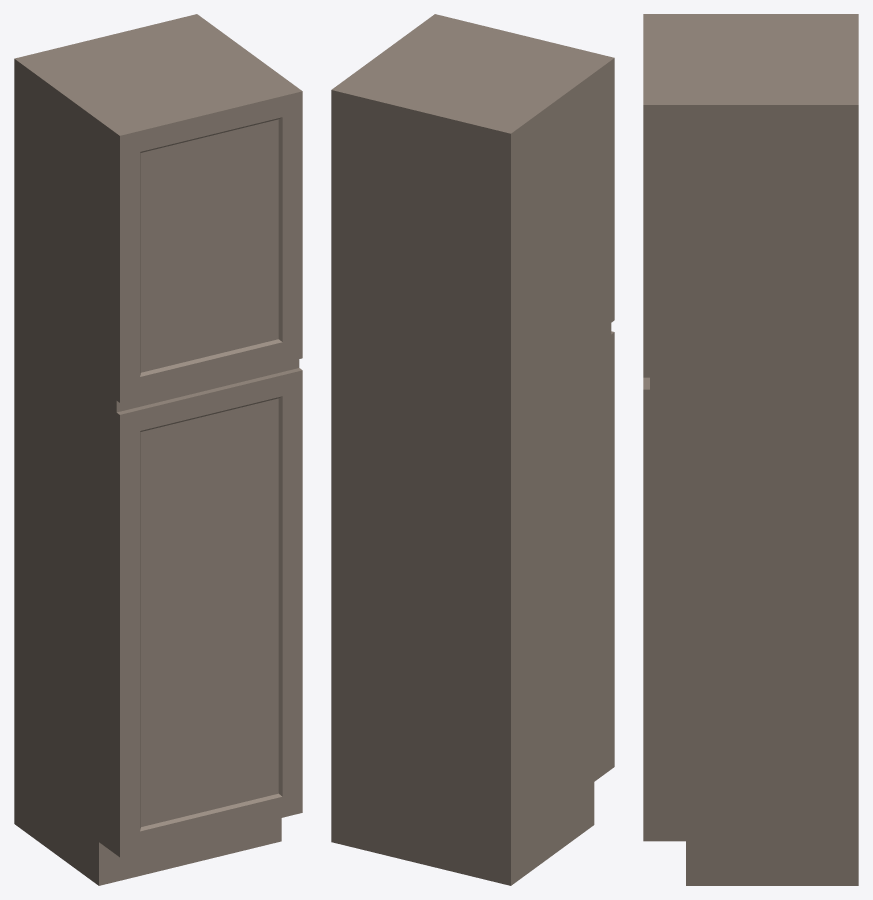
The model's file is Universal-Design-Utility-Cabinet-24-Deep_std_001_W24in_1D.glb.
The picture shows the model from 3 angles, left to right: view 1: azimuth 30°, elevation 25°; view 2: azimuth 150°, elevation 25°; view 3: azimuth 270°, elevation 25°; orthographic projection. The views are drawn at different scales.
Parts seen in each view (by area): view 1: Universal-Design-Utility-Cabinet-24-Deep.std.001_W24in_1D; view 2: Universal-Design-Utility-Cabinet-24-Deep.std.001_W24in_1D; view 3: Universal-Design-Utility-Cabinet-24-Deep.std.001_W24in_1D.
Part boxes in pixels (x1=…): Universal-Design-Utility-Cabinet-24-Deep.std.001_W24in_1D: x1=14, y1=14, x2=302, y2=885; Universal-Design-Utility-Cabinet-24-Deep.std.001_W24in_1D: x1=331, y1=14, x2=614, y2=885; Universal-Design-Utility-Cabinet-24-Deep.std.001_W24in_1D: x1=643, y1=14, x2=858, y2=885.
Bounding box in the file's own units: 0.6096 × 2.44 × 0.6096.
